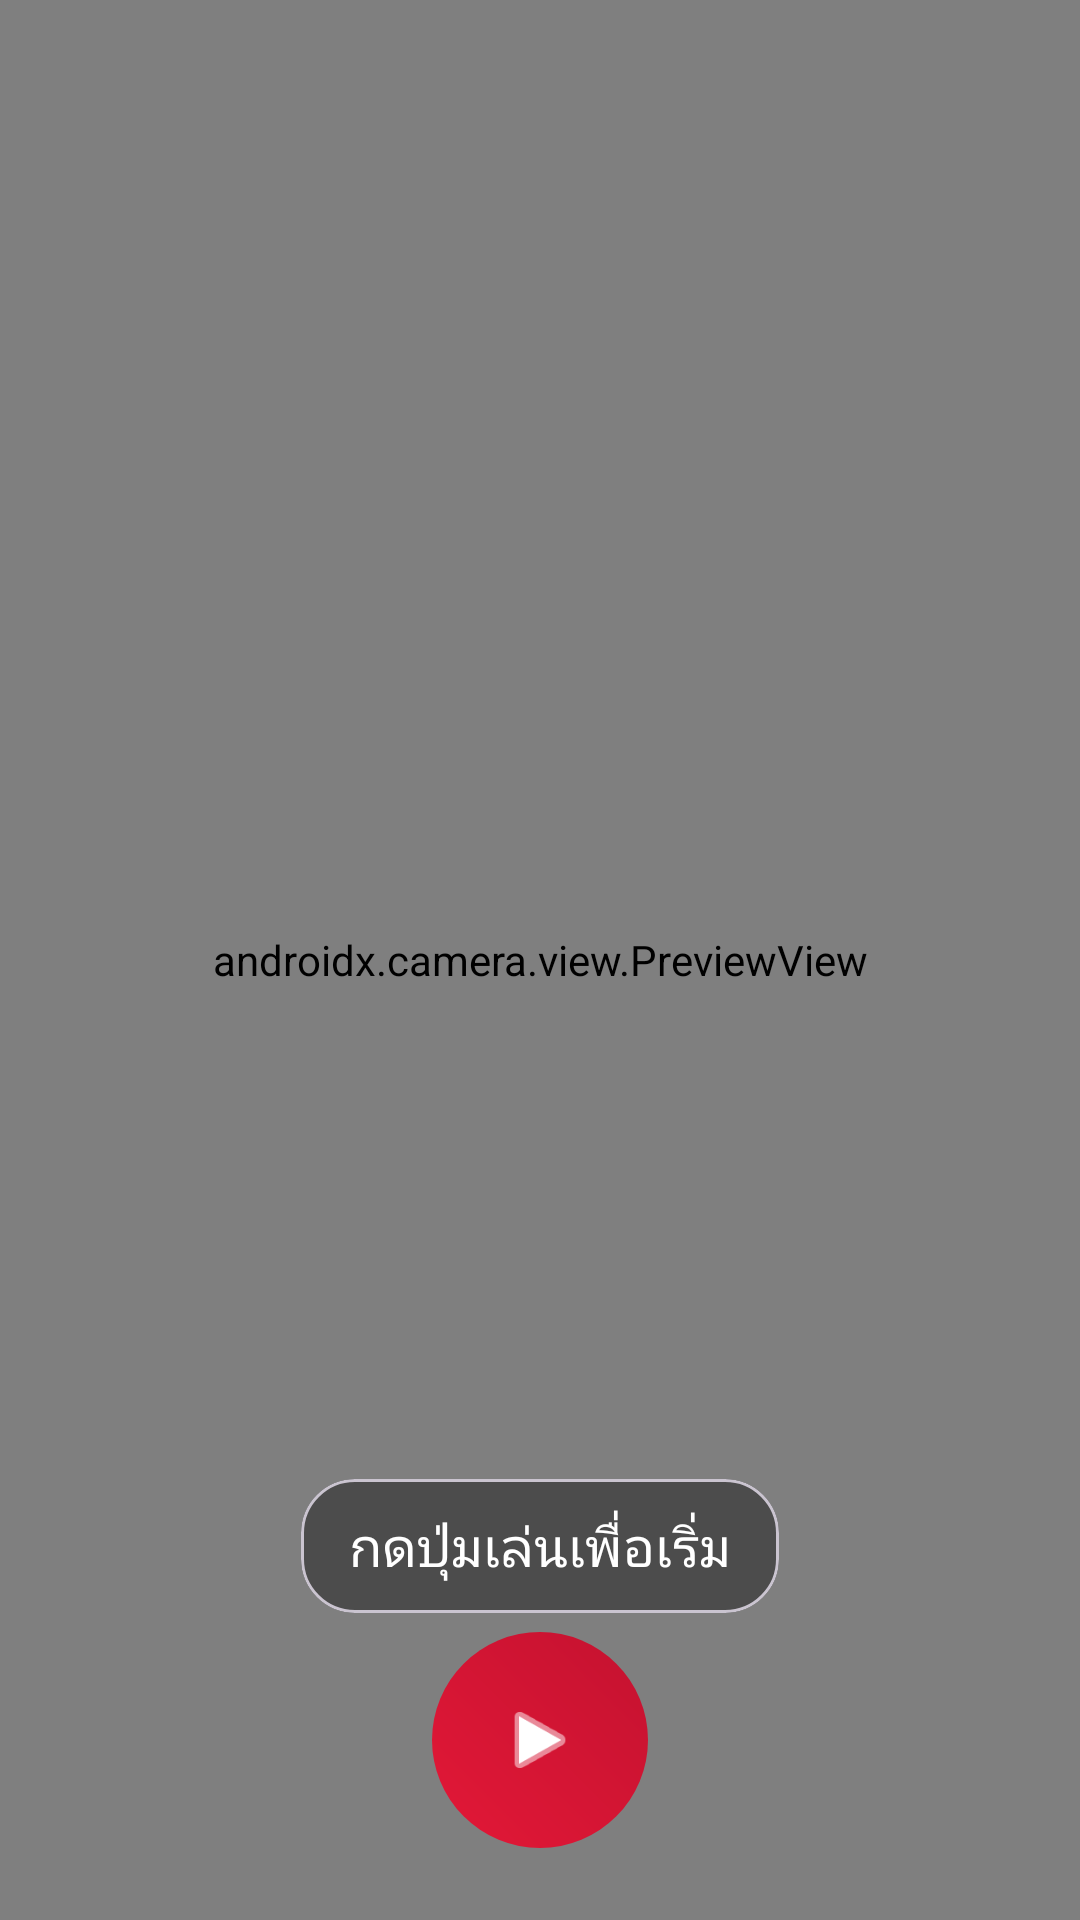

Point at icon controls on the screen. Image size 1080w x 1920h, points as point (x, y).
play: point (540, 1740)
